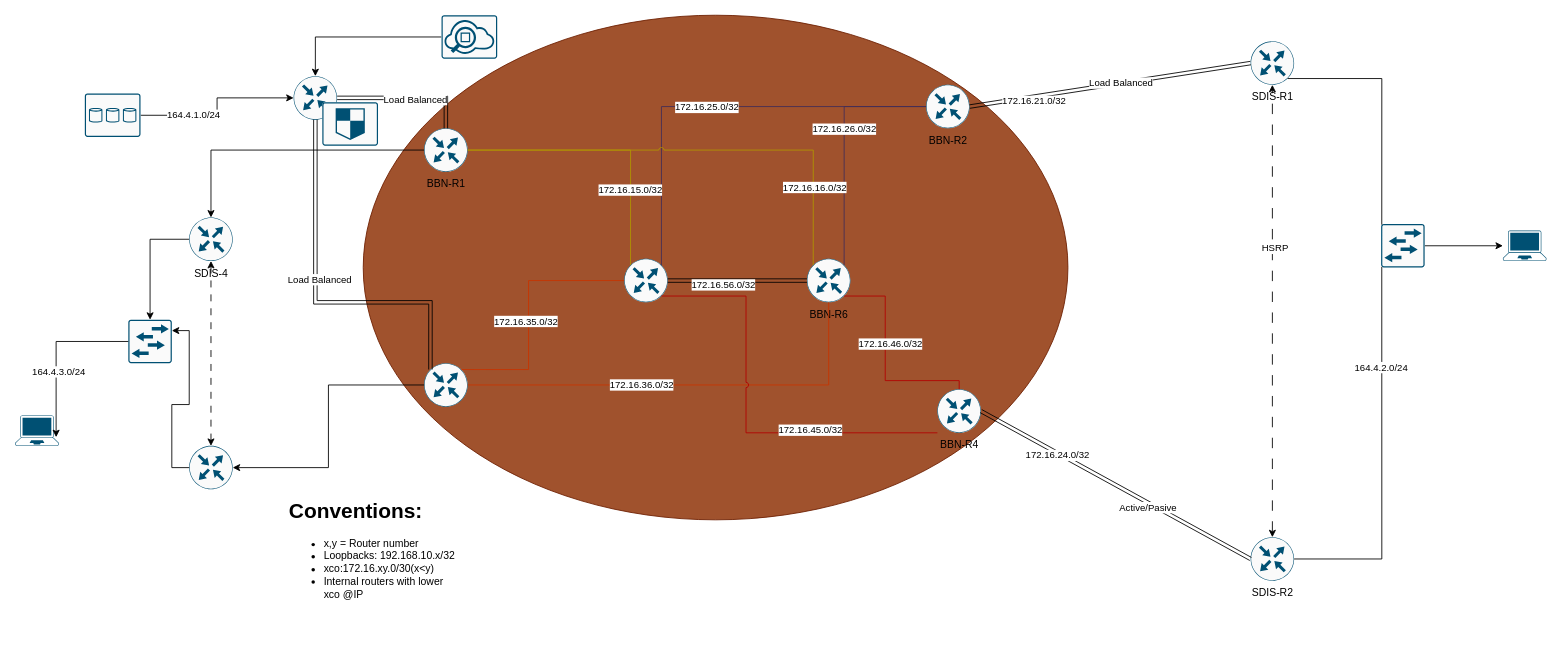
Image size: 1561x657. Some labels were removed from this diagram. The centre of each missing label's shape, as x and y in pixels:
"BBN-R3" belongs at point 445,384.
"BBN-R5" belongs at point 645,280.
"SDIS-3" belongs at point 210,467.
